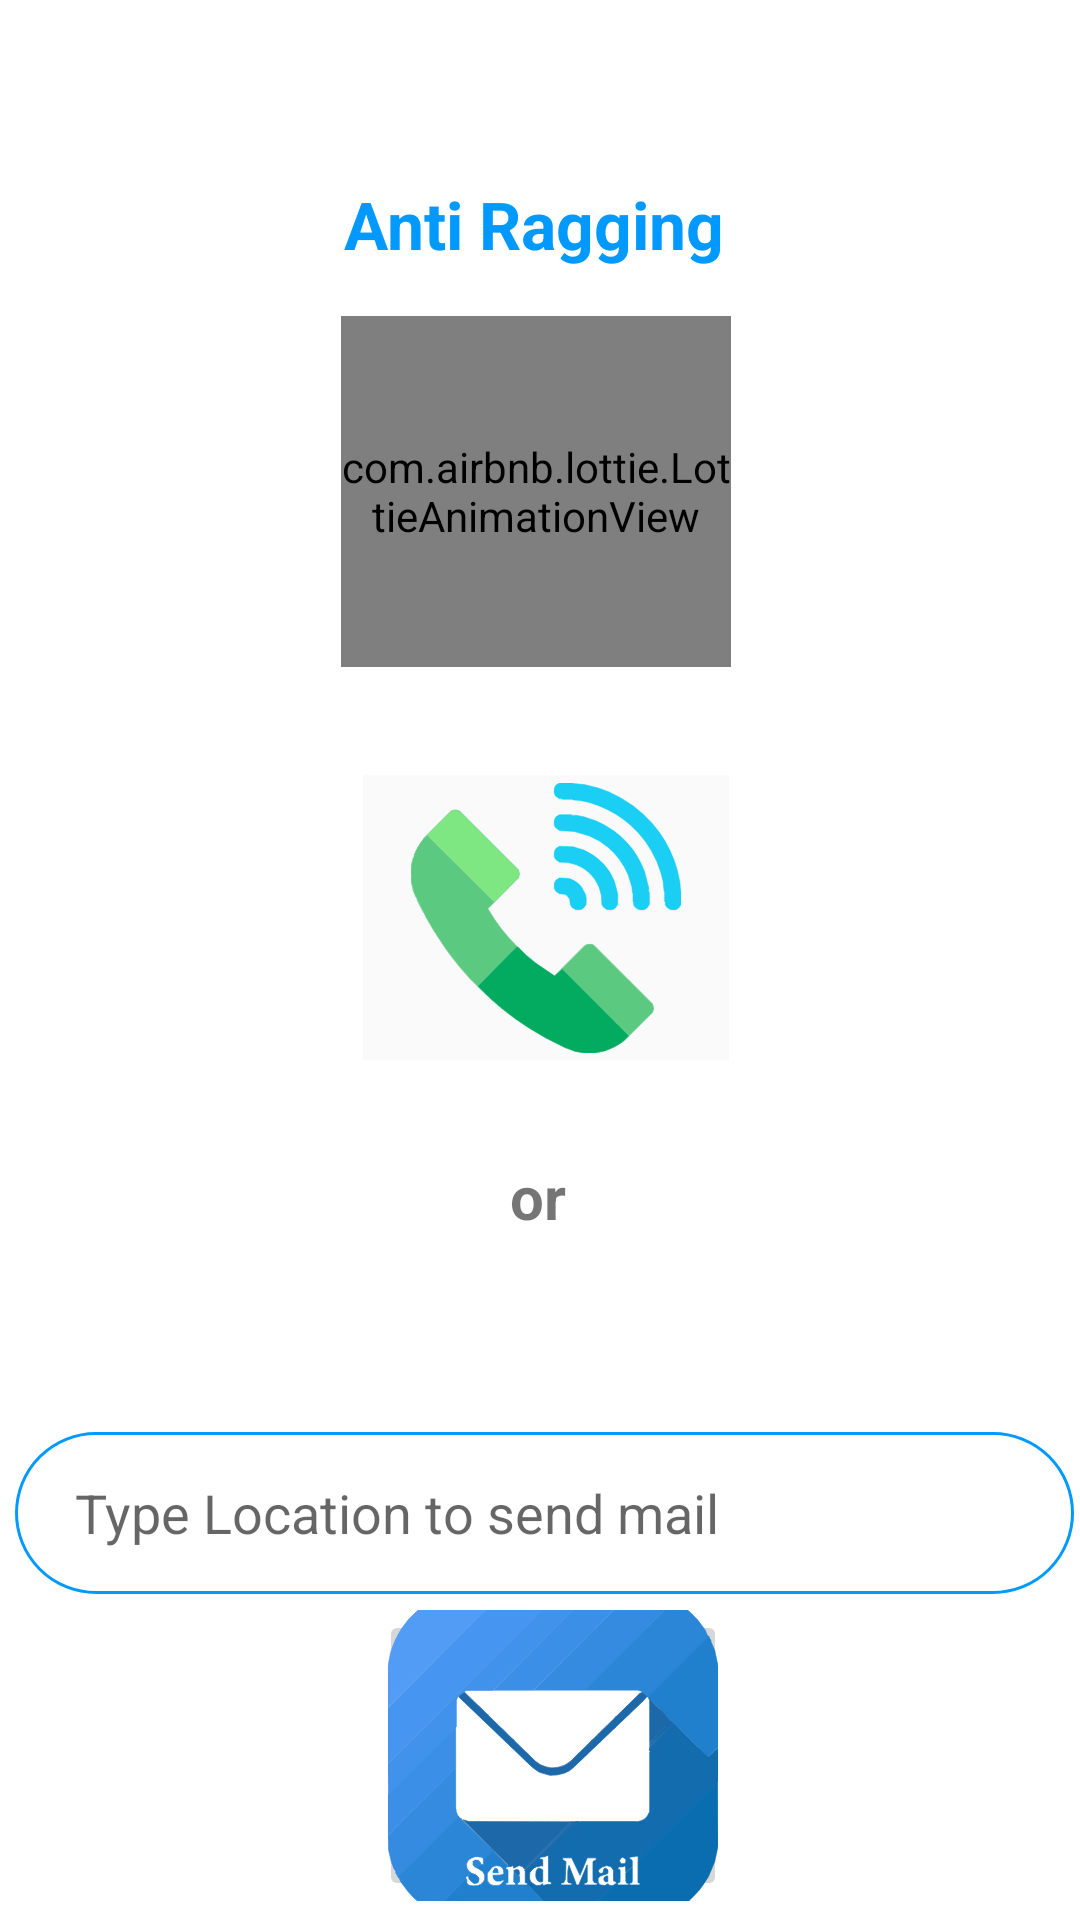

Screen size 1080*1920. Icon name, then its box in pixels as (x1, y1, x2, y2):
phone call: (411, 783, 681, 1053)
